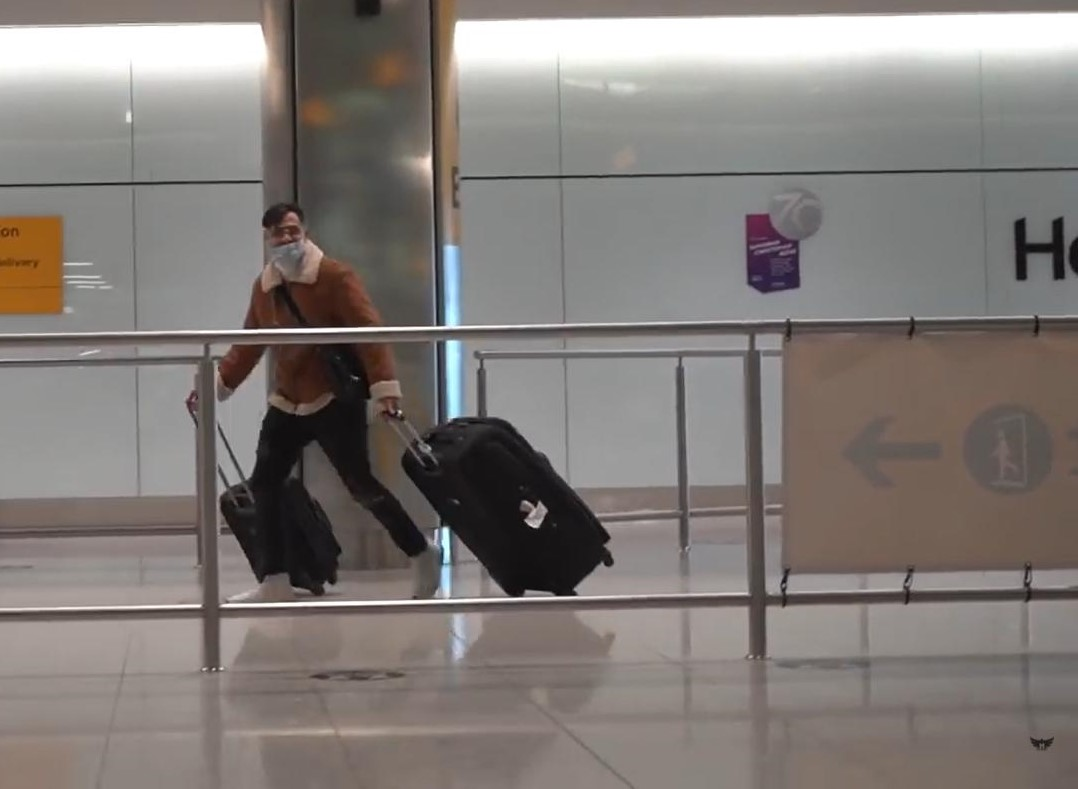with_incorrect_mask: (275, 223, 299, 262)
